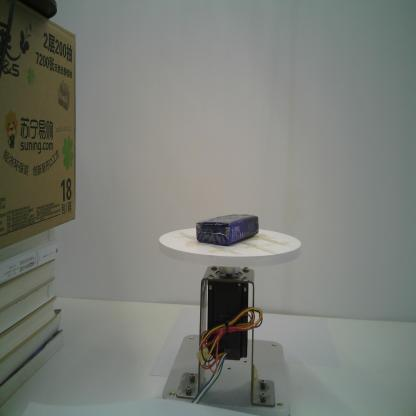Gum: (194, 210, 260, 248)
